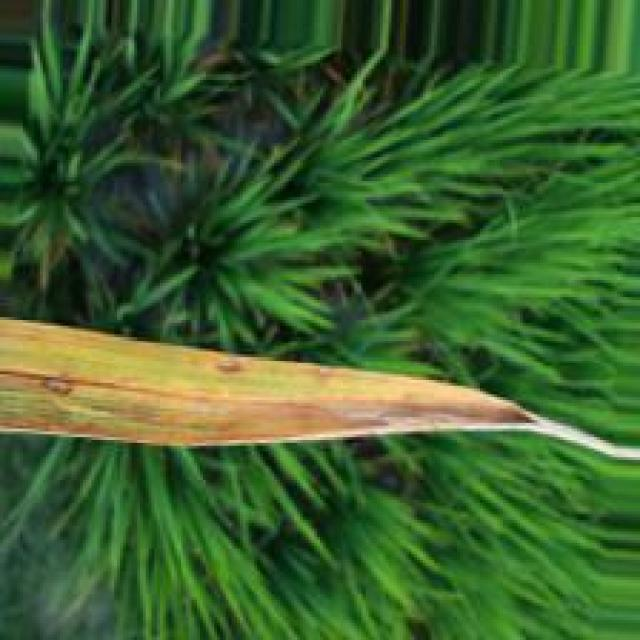Bacterial_Leaf_Blight: (0, 314, 637, 468)
